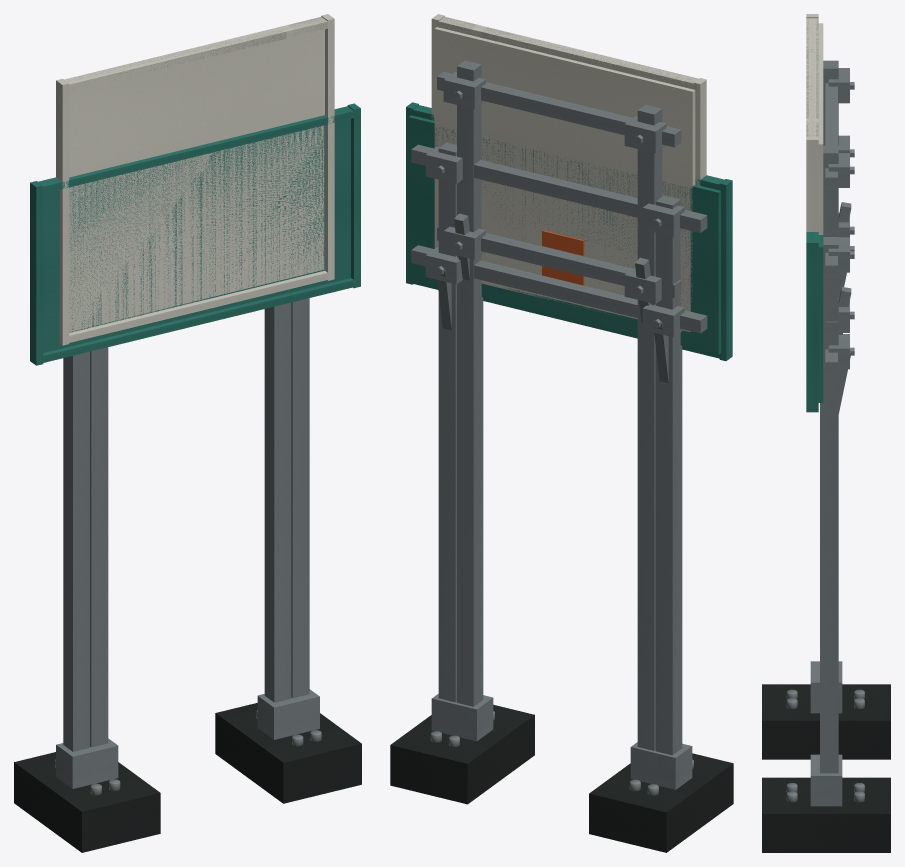
File: aurel-track-boards.glb
3 renders of one model, left to right at view 1: azimuth 30°, elevation 25°; view 2: azimuth 150°, elevation 25°; view 3: azimuth 270°, elevation 25°, orthographic. The views are drawn at different scales.
Parts seen in each view (by area): view 1: A09_CLEAN_LOD0_SURFACES, A09_SECTOR_LOD0_SURFACES, A09_SECTOR_LOD1_SURFACES, A09_CLEAN_LOD1_SURFACES, A09_WORN_LOD1_SURFACES; view 2: A09_CLEAN_LOD0_SURFACES, A09_CLEAN_LOD1_SURFACES, A09_SECTOR_LOD1_SURFACES, A09_SECTOR_LOD0_SURFACES, A09_WORN_LOD0_SURFACES, A09_WORN_LOD1_SURFACES; view 3: A09_SECTOR_LOD1_SURFACES, A09_SECTOR_LOD0_SURFACES, A09_CLEAN_LOD1_SURFACES, A09_CLEAN_LOD0_SURFACES, A09_WORN_LOD1_SURFACES.
Boxes of the visible parts, bbox=[...] form: A09_CLEAN_LOD0_SURFACES: bbox=[52, 15, 336, 838]; A09_SECTOR_LOD0_SURFACES: bbox=[18, 105, 358, 843]; A09_SECTOR_LOD1_SURFACES: bbox=[14, 103, 361, 852]; A09_CLEAN_LOD1_SURFACES: bbox=[33, 14, 343, 848]; A09_WORN_LOD1_SURFACES: bbox=[73, 17, 327, 89]; A09_CLEAN_LOD0_SURFACES: bbox=[414, 15, 705, 839]; A09_CLEAN_LOD1_SURFACES: bbox=[408, 14, 714, 848]; A09_SECTOR_LOD1_SURFACES: bbox=[390, 102, 733, 852]; A09_SECTOR_LOD0_SURFACES: bbox=[396, 103, 731, 844]; A09_WORN_LOD0_SURFACES: bbox=[442, 18, 697, 88]; A09_WORN_LOD1_SURFACES: bbox=[438, 17, 697, 90]; A09_SECTOR_LOD1_SURFACES: bbox=[762, 135, 890, 852]; A09_SECTOR_LOD0_SURFACES: bbox=[769, 142, 883, 846]; A09_CLEAN_LOD1_SURFACES: bbox=[762, 14, 890, 786]; A09_CLEAN_LOD0_SURFACES: bbox=[769, 15, 883, 792]; A09_WORN_LOD1_SURFACES: bbox=[806, 19, 818, 136].
Size of the model in its own units: 1.24 by 2.74 by 0.45.
Materials: 1 (1 with a texture image).
